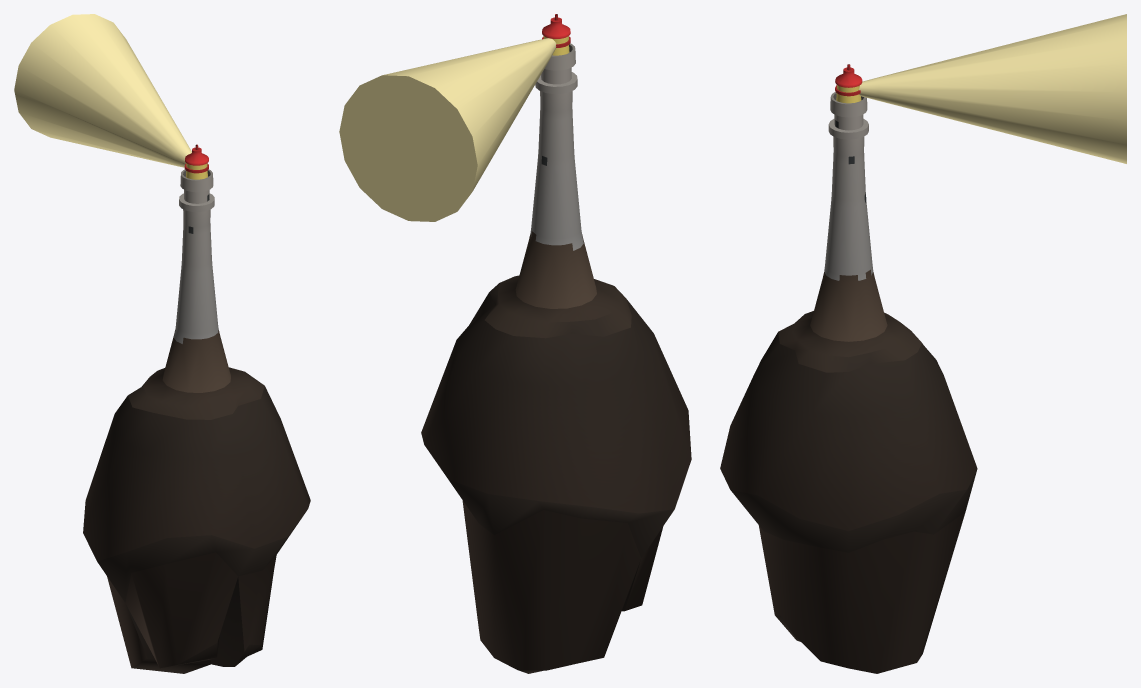
Rendered from Business_Lighthouse.glb.
3 views of the same model, side by side, from view 1: azimuth 30°, elevation 25°; view 2: azimuth 150°, elevation 25°; view 3: azimuth 270°, elevation 25° (orthographic). The views are drawn at different scales.
Visible parts, largest first — view 1: base.085, light.010; view 2: base.085, light.010; view 3: base.085, light.010.
Boxes of the visible parts, x1,y1,x2,y2 form: base.085: [83, 144, 310, 673]; light.010: [14, 14, 207, 179]; base.085: [421, 14, 691, 673]; light.010: [339, 36, 569, 221]; base.085: [720, 64, 977, 673]; light.010: [836, 14, 1126, 163].
Size of the model in its own units: 16.23 by 44.85 by 25.64.
